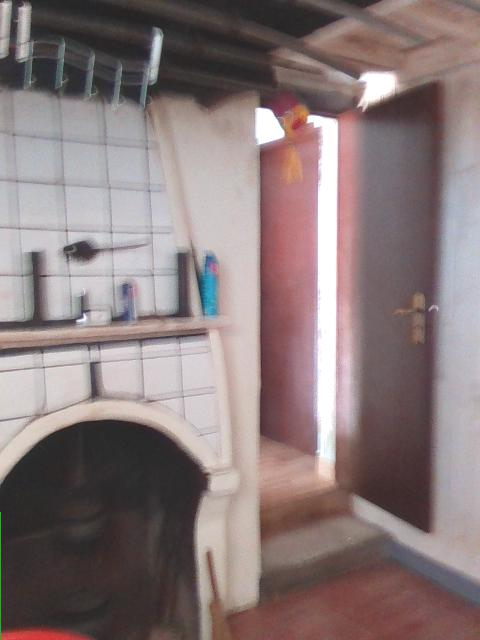open_door: (257, 104, 363, 540)
